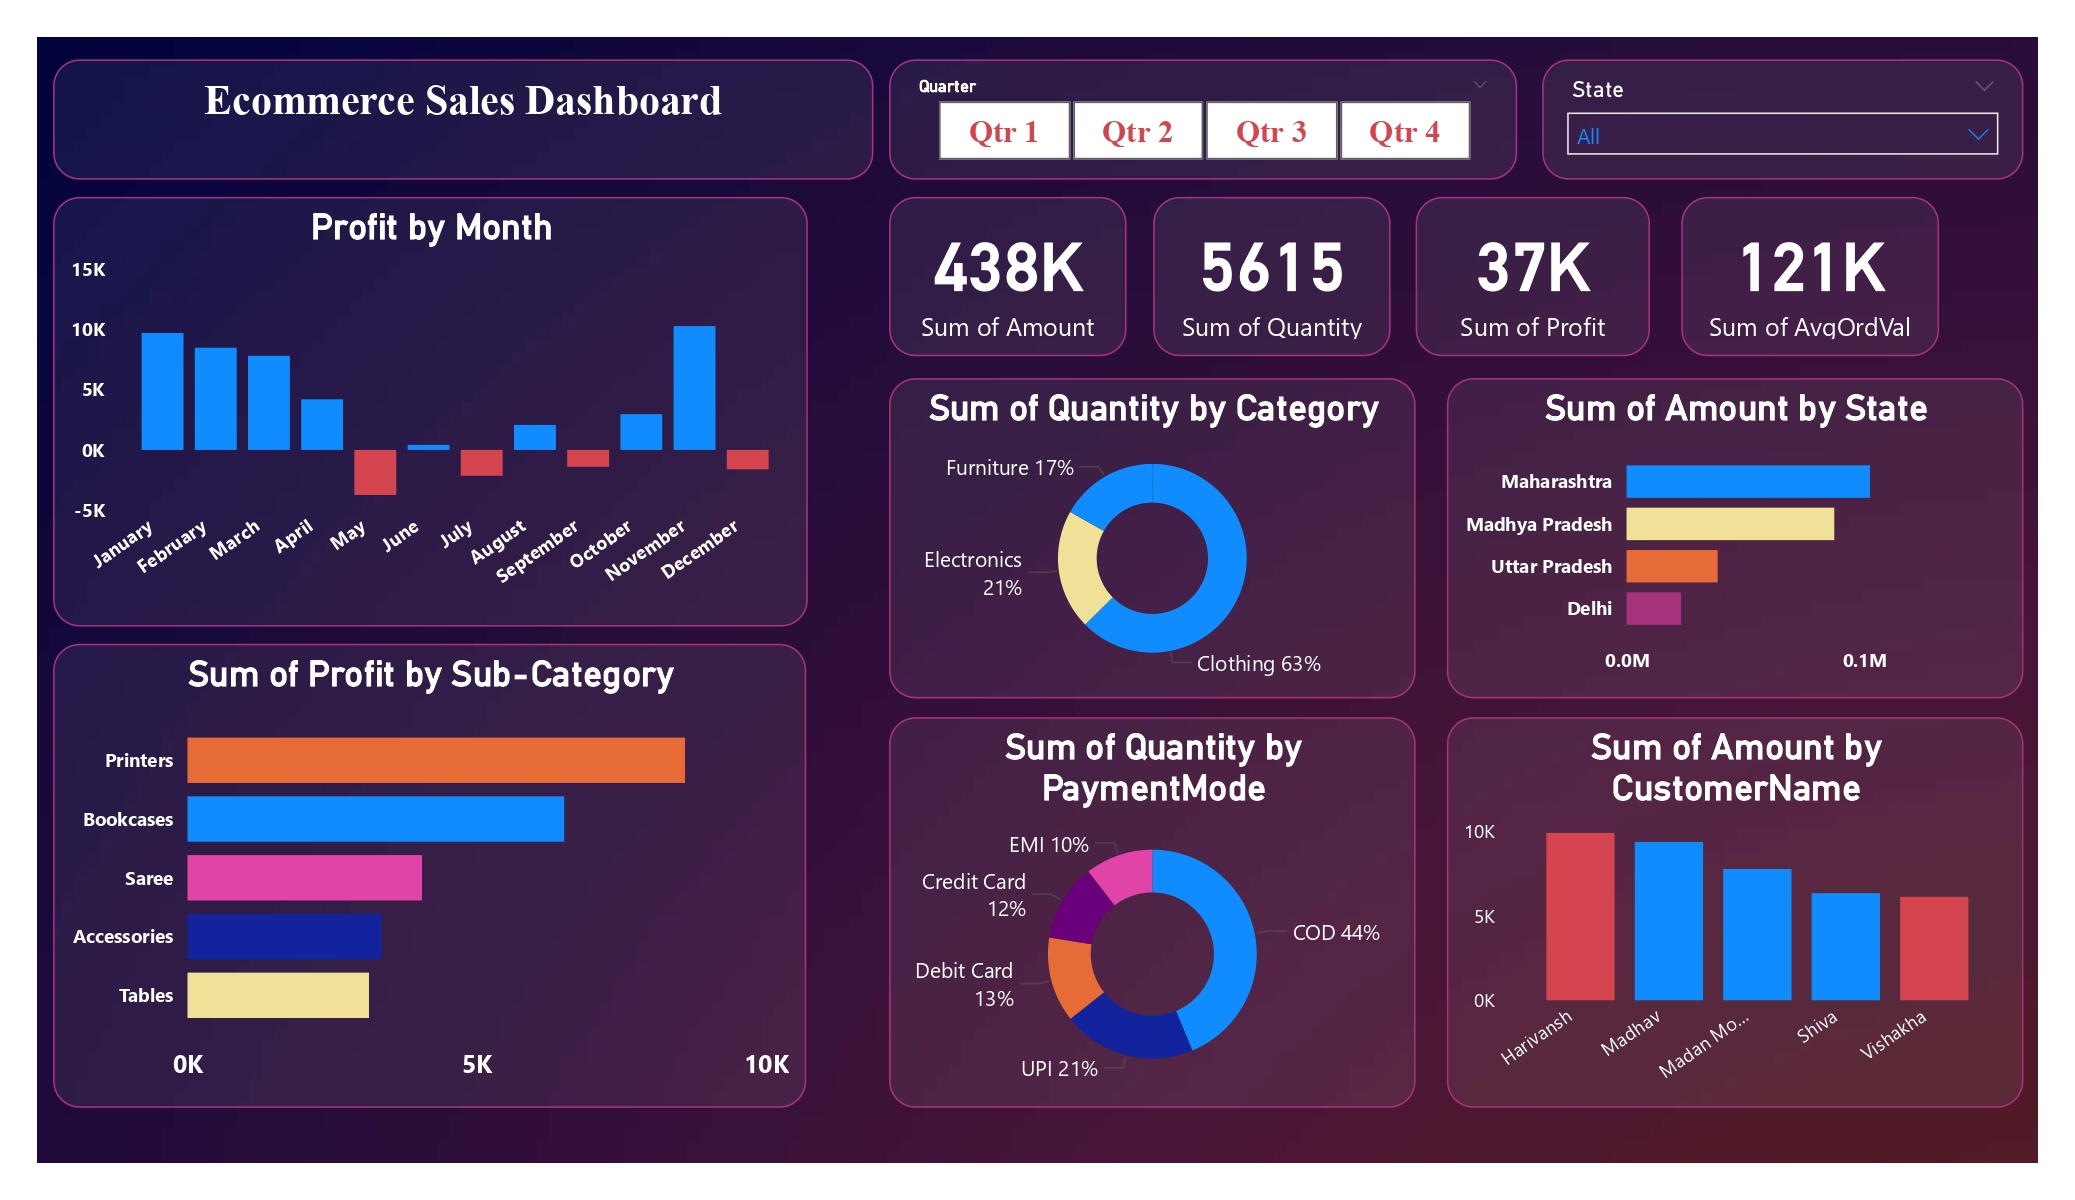

The page's visual inventory and layout, read from the dashboard file:
{"tool":"powerbi","page":{"name":"Page 1","canvas":[1280,720],"ordinal":0},"visuals":[{"type":"textbox","box":[9.6,13.7,525.6,76.8],"z":0},{"type":"columnChart","title":"Profit by Month","fields":{"Category":["Orders.Order Date.Variation.Date Hierarchy.Month"],"Y":["Sum(Details.Profit)"]},"box":[9.6,101.5,483,275.8],"z":1000},{"type":"barChart","fields":{"Category":["Details.Sub-Category"],"Y":["Sum(Details.Profit)"]},"box":[9.7,388.5,482.6,296.8],"z":2000},{"type":"donutChart","fields":{"Y":["Sum(Details.Quantity)"],"Category":["Details.PaymentMode"]},"box":[544.8,435,337.6,249.7],"z":3000},{"type":"donutChart","fields":{"Category":["Details.Category"],"Y":["Sum(Details.Quantity)"]},"box":[544.8,218.2,337.6,204.5],"z":4000},{"type":"card","fields":{"Values":["Sum(Details.Amount)"]},"box":[544.8,101.5,152.3,102.9],"z":5000},{"type":"card","fields":{"Values":["Sum(Details.Quantity)"]},"box":[713.6,101.5,152.3,102.9],"z":6000},{"type":"card","fields":{"Values":["Sum(Details.Profit)"]},"box":[882.3,101.5,149.6,102.9],"z":7000},{"type":"card","fields":{"Values":["Sum(Details.AvgOrdVal)"]},"box":[1052.5,101.5,164.7,102.9],"z":8000},{"type":"barChart","fields":{"Category":["Orders.State"],"Y":["Sum(Details.Amount)"]},"box":[901.5,218.2,369.1,204.5],"z":9000},{"type":"columnChart","fields":{"Category":["Orders.CustomerName"],"Y":["Sum(Details.Amount)"]},"box":[902,435,369,250],"z":10000},{"type":"slicer","fields":{"Values":["Orders.Order Date.Variation.Date Hierarchy.Quarter"]},"box":[544.8,13.7,402.1,76.8],"z":11000},{"type":"slicer","fields":{"Values":["Orders.State"]},"box":[963.3,13.7,307.4,76.8],"z":12000}]}

Visuals, with their boxes on the page's 1280x720 design canvas (x1, y1, x2, y2). These are canvas units, not pixel positions in the 2075x1200 screenshot, which may show the page scaled, cropped or inside an application window:
textbox: 10/14/535/90
"Profit by Month" columnChart: 10/102/493/377
barChart - Details.Sub-Category x Sum(Details.Profit): 10/388/492/685
donutChart - Sum(Details.Quantity) x Details.PaymentMode: 545/435/882/685
donutChart - Details.Category x Sum(Details.Quantity): 545/218/882/423
card - Sum(Details.Amount): 545/102/697/204
card - Sum(Details.Quantity): 714/102/866/204
card - Sum(Details.Profit): 882/102/1032/204
card - Sum(Details.AvgOrdVal): 1052/102/1217/204
barChart - Orders.State x Sum(Details.Amount): 902/218/1271/423
columnChart - Orders.CustomerName x Sum(Details.Amount): 902/435/1271/685
slicer - Orders.Order Date.Variation.Date Hierarchy.Quarter: 545/14/947/90
slicer - Orders.State: 963/14/1271/90
